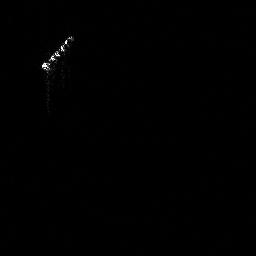ship: (35, 30, 78, 76)
